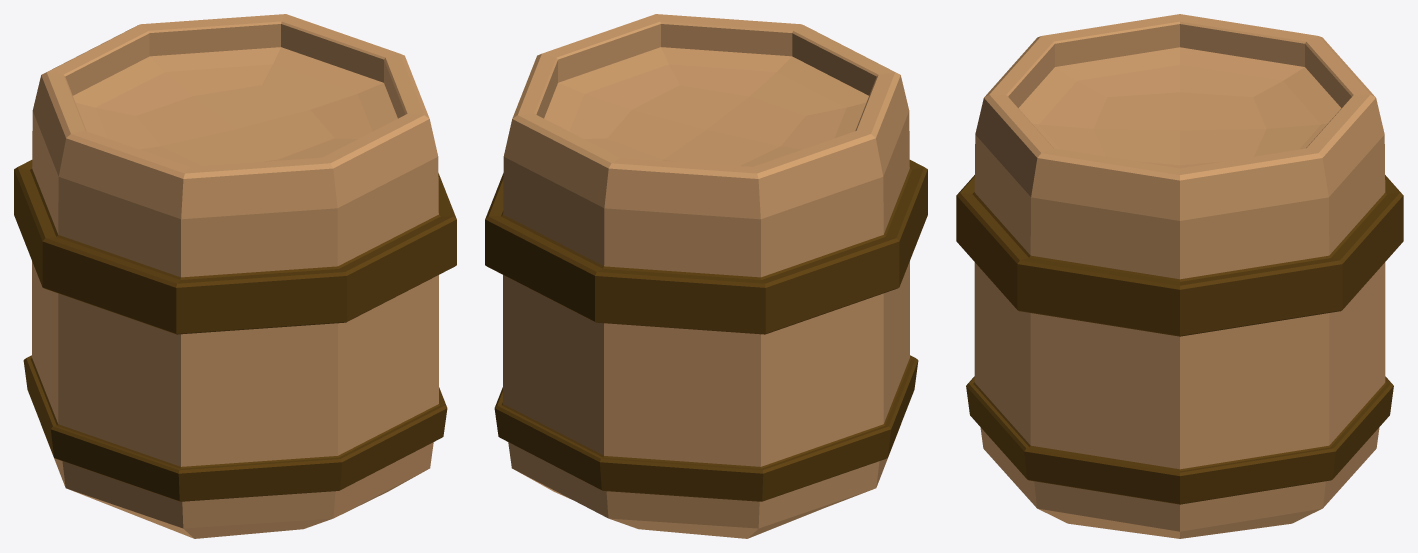
File: Barril.fbx
The picture shows the model from 3 angles, left to right: view 1: azimuth 30°, elevation 25°; view 2: azimuth 150°, elevation 25°; view 3: azimuth 270°, elevation 25°; orthographic projection.
Visible parts, largest first — view 1: Cube; view 2: Cube; view 3: Cube.
Part boxes in pixels (<box>): Cube: <box>14,14,456,538</box>; Cube: <box>485,14,927,538</box>; Cube: <box>956,14,1403,538</box>.
Size of the model in its own units: 421 by 413 by 421.
